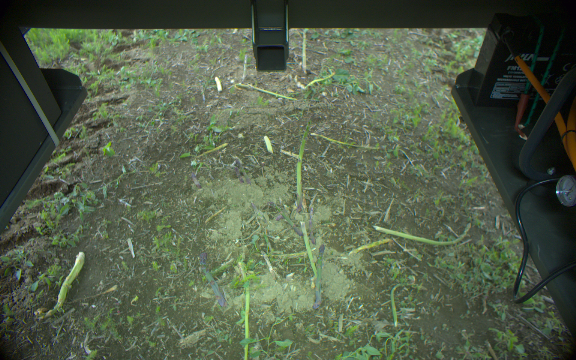aspa: (294, 119, 320, 213), (235, 261, 258, 360), (193, 252, 225, 309), (305, 245, 327, 309), (301, 221, 320, 274), (298, 28, 310, 76)
